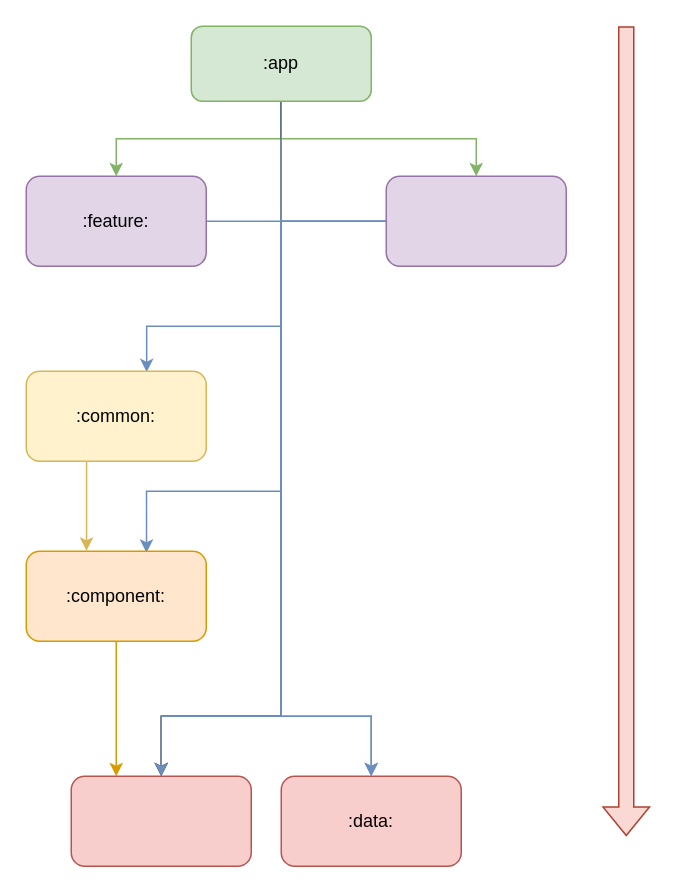
This 677x893 diagram has some shape labels left out. The shapes that lost their labels are listed below. From the top down, each one's centre as x and y in pixels, then its label:
At [475,220]: ":services:".
At [160,820]: ":core:".
